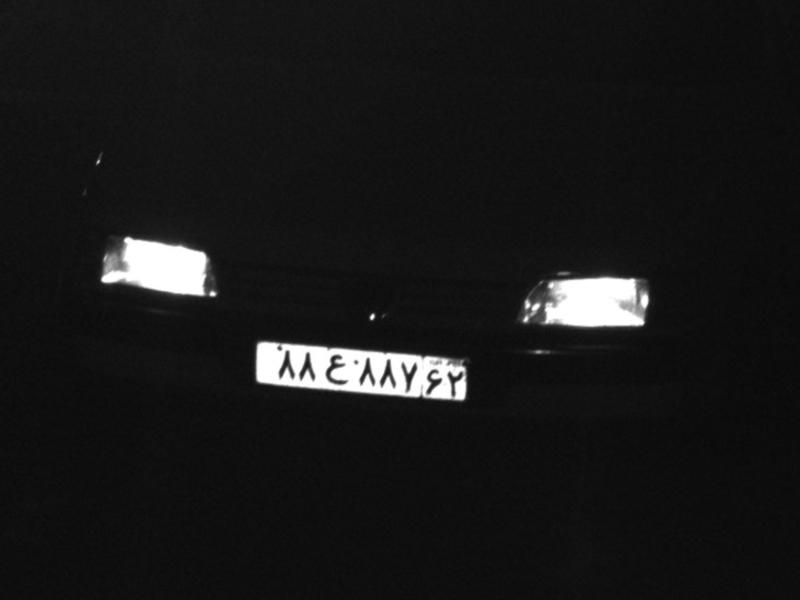Plate: (257, 333, 474, 407)
